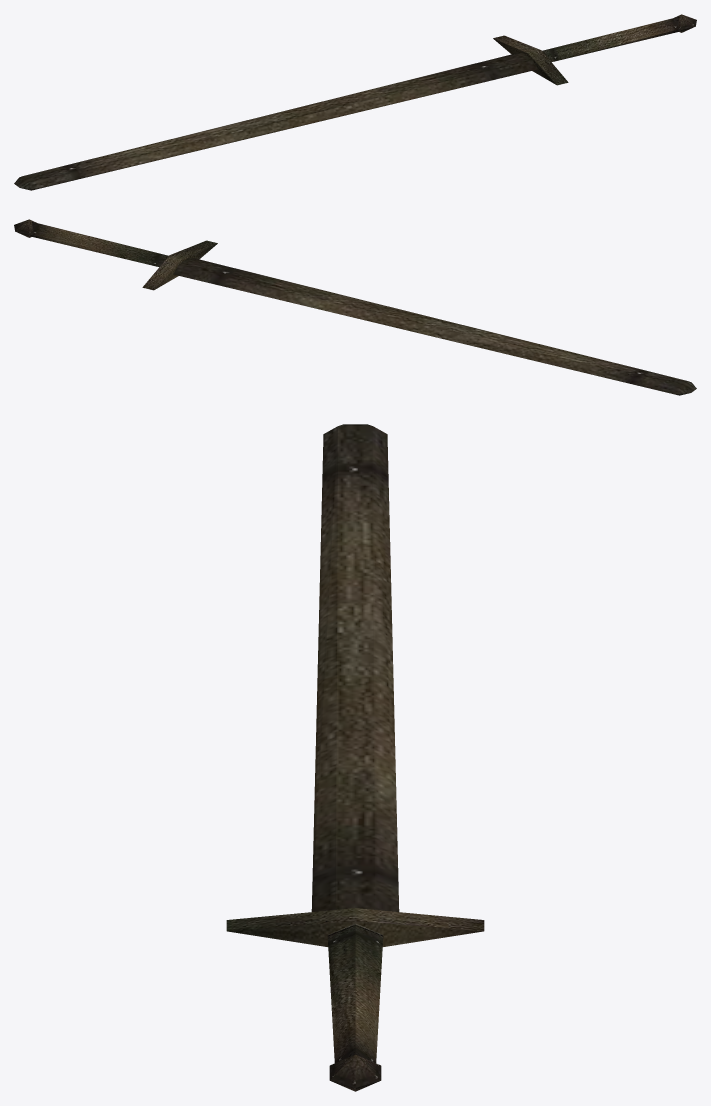
Rendered from KM_VOB_WOOD_SWORD_02.glb.
3 views of the same model, one above another, from view 1: azimuth 30°, elevation 25°; view 2: azimuth 150°, elevation 25°; view 3: azimuth 270°, elevation 25° (orthographic). The views are drawn at different scales.
Parts seen in each view (by area): view 1: KM_VOB_WOOD_SWORD_02; view 2: KM_VOB_WOOD_SWORD_02; view 3: KM_VOB_WOOD_SWORD_02.
Part boxes in pixels (left/top/right/bottom): KM_VOB_WOOD_SWORD_02: left=14, top=14, right=696, bottom=190; KM_VOB_WOOD_SWORD_02: left=14, top=219, right=696, bottom=395; KM_VOB_WOOD_SWORD_02: left=226, top=424, right=484, bottom=1091.
Bounding box in the file's own units: 1.39 × 0.0363 × 0.2271.
Materials: 1 (1 with a texture image).
